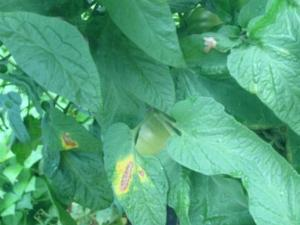Tomato Early blight leaf: (62, 107, 211, 225)
